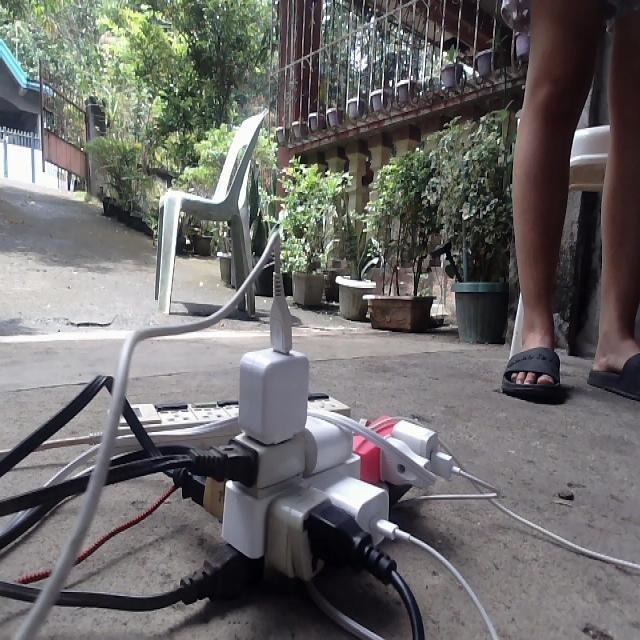-: (171, 272, 463, 604)
